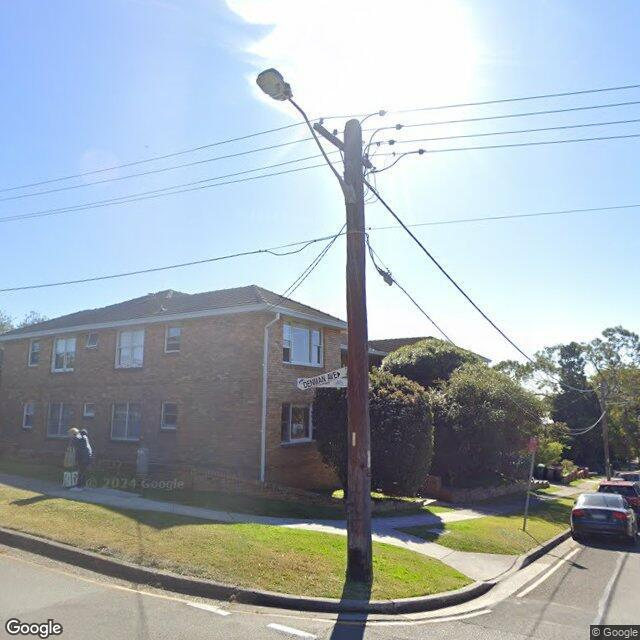crossarm: (313, 121, 377, 172)
streetlight: (255, 68, 356, 203)
timber-pole: (343, 120, 373, 578), (600, 383, 610, 481)
